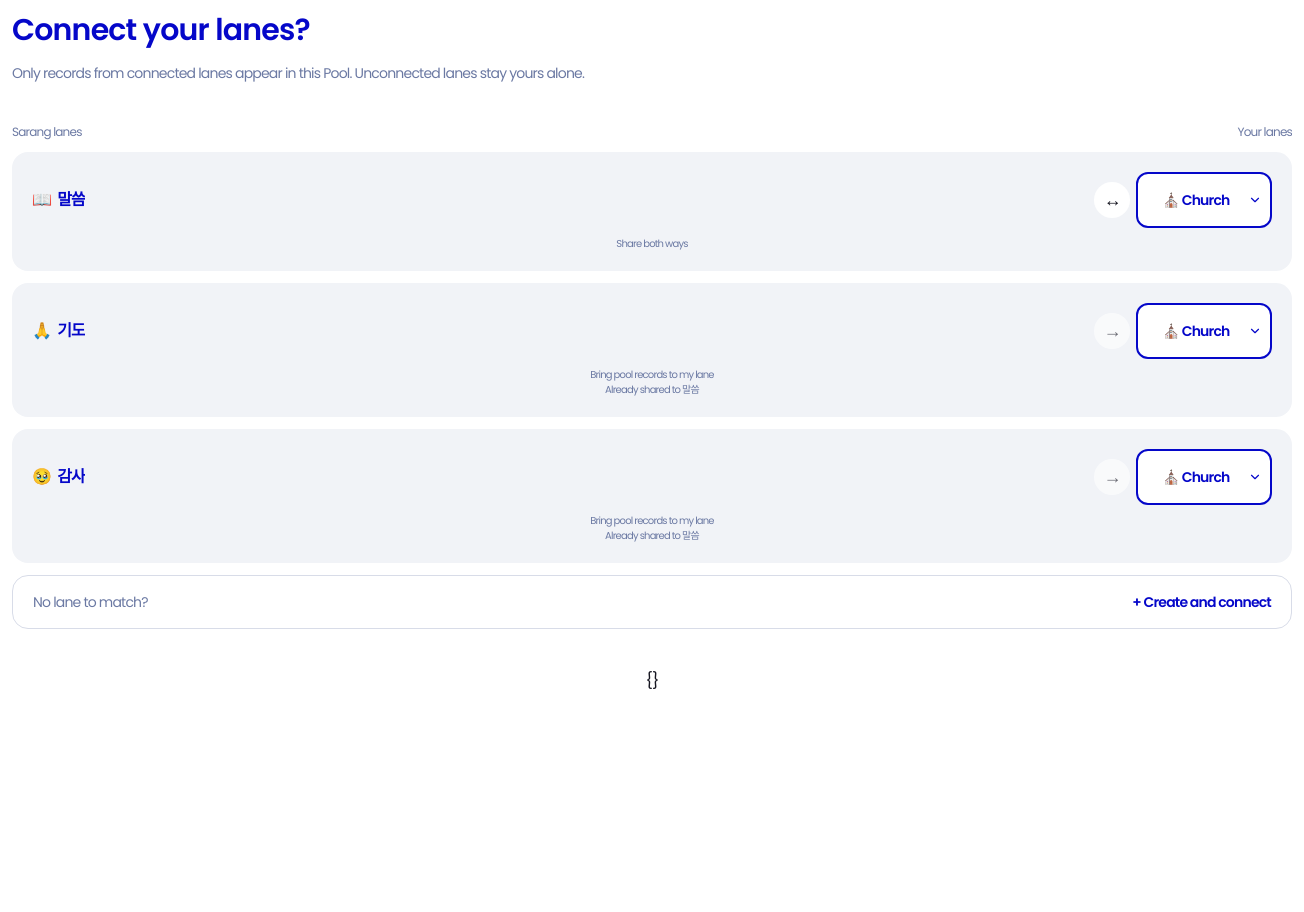
one sender per lane of mine (review) › lets a row share again once it connects a different lane
Select "🖋 Day" in the dropdown in the row of "감사": (1204, 477) [1136,449,1272,505]
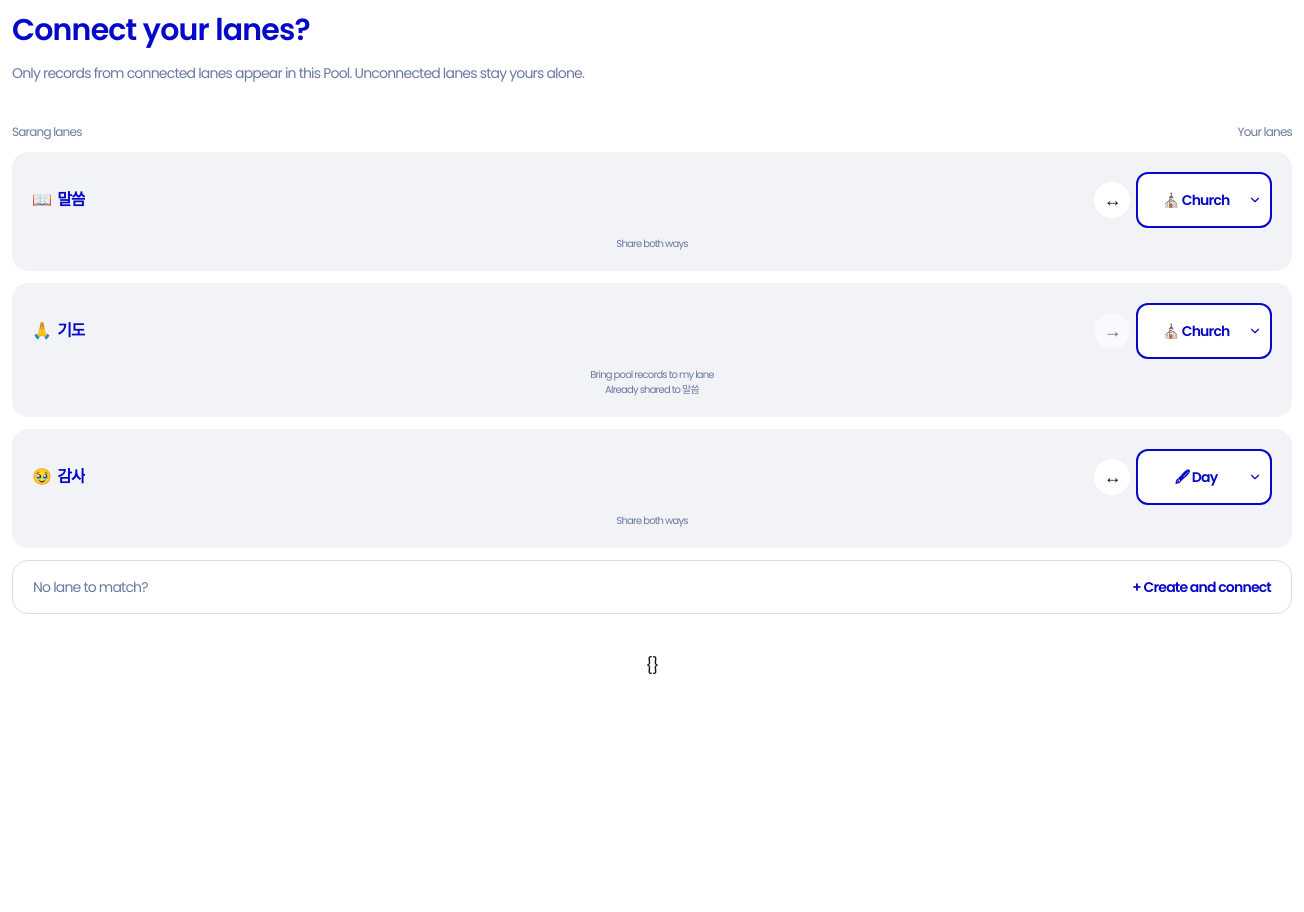
Check: the button "↔" in the row of "감사" is shown, box [1094,459,1130,495]
